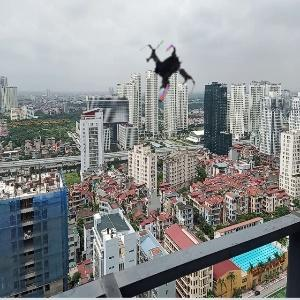drone: (128, 39, 201, 112)
